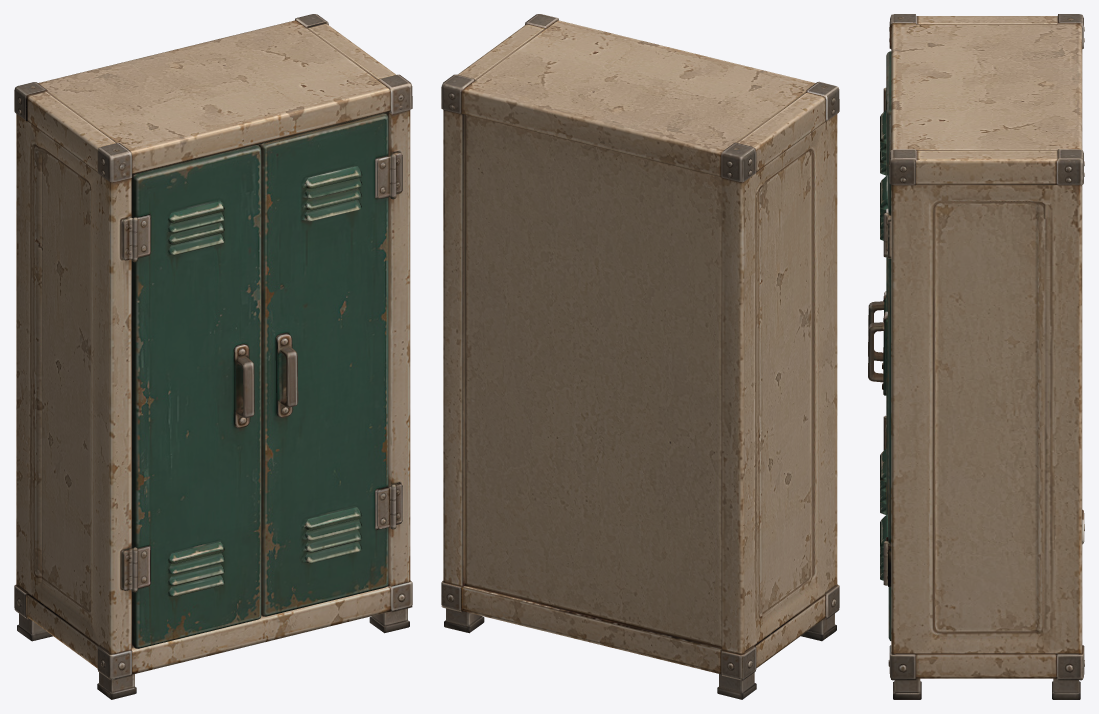
File: P33_steel_storage_cupboard_Runtime_1k.glb
3 renders of one model, left to right at view 1: azimuth 30°, elevation 25°; view 2: azimuth 150°, elevation 25°; view 3: azimuth 270°, elevation 25°, orthographic.
Parts seen in each view (by area): view 1: tripo_node_407fbcaf; view 2: tripo_node_407fbcaf; view 3: tripo_node_407fbcaf.
Part boxes in pixels (box(x1,y1,x2,y2)): tripo_node_407fbcaf: box(14, 14, 412, 699); tripo_node_407fbcaf: box(441, 14, 839, 699); tripo_node_407fbcaf: box(868, 14, 1084, 699).
Bounding box in the file's own units: 0.9372 × 1.6 × 0.5808.
Materials: 1 (1 with a texture image).
